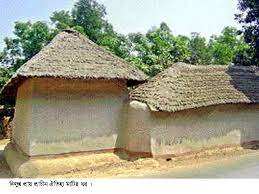Mud House: (2, 25, 136, 161), (132, 61, 259, 165)
